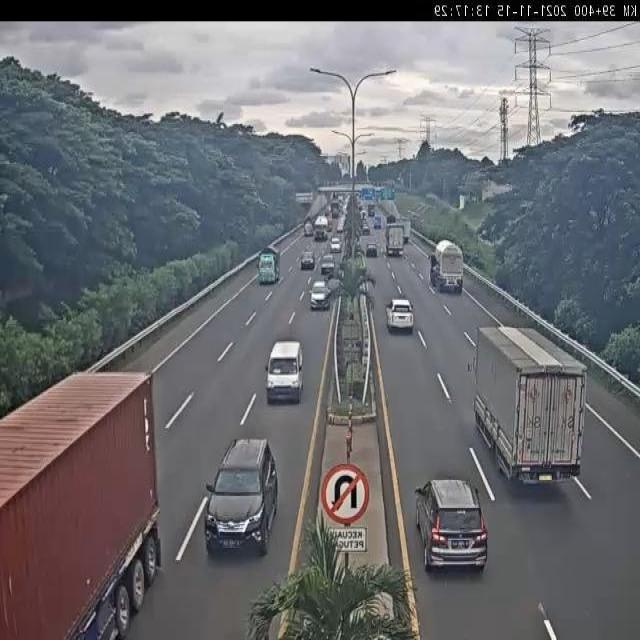Car: (202, 428, 281, 556), (410, 472, 488, 588), (383, 289, 418, 336), (310, 279, 326, 309), (300, 247, 317, 273), (364, 242, 379, 265), (322, 253, 336, 276), (329, 238, 342, 255), (362, 222, 372, 238)
Truck: (0, 371, 168, 640), (476, 319, 594, 492), (430, 237, 467, 296), (252, 241, 284, 290), (388, 226, 408, 260), (397, 214, 413, 248), (313, 215, 331, 242)
Van: (265, 334, 307, 412)
